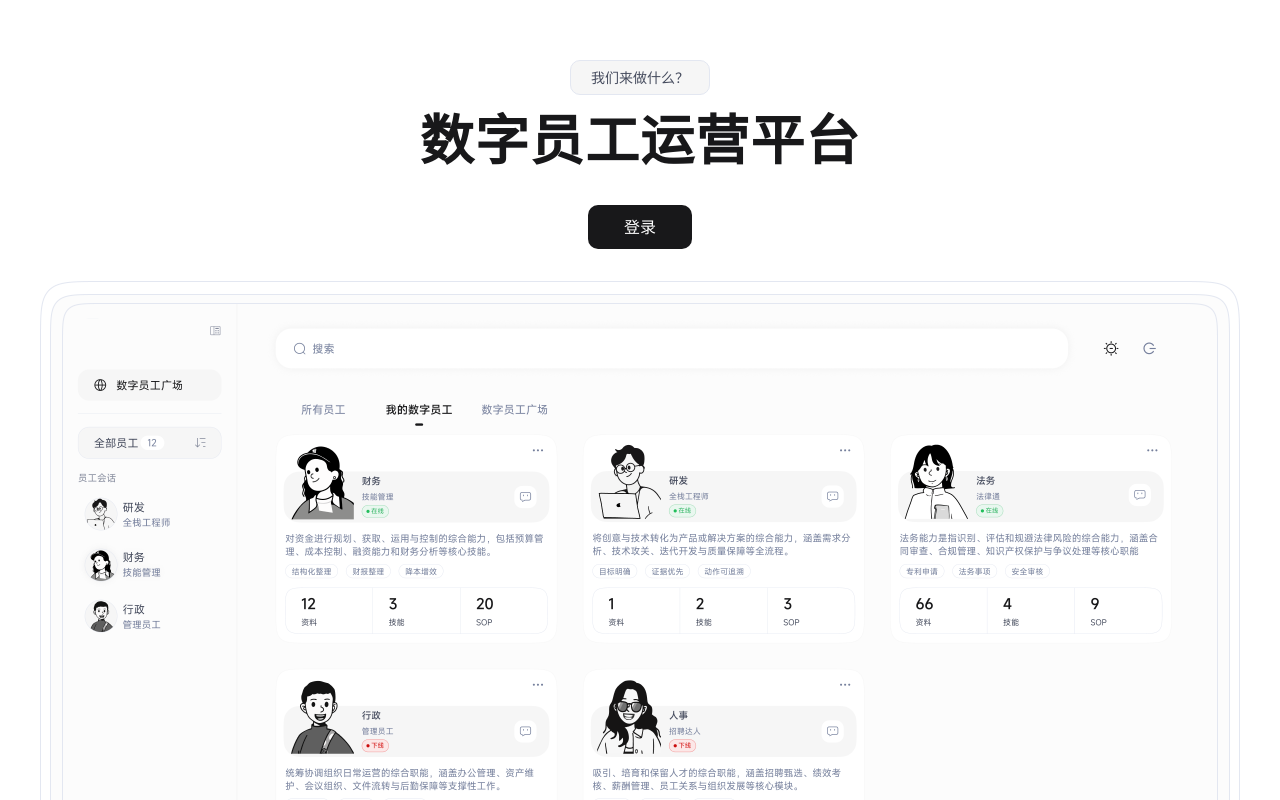
Test: LoginPage › shows the original landing hero before revealing credentials
The image size is (1280, 800).
Expected: the text "我们来做什么？" is shown, [570,60,710,95]
Expected: the field labelled "账号" is not shown
Click the button "登录".
click(640, 227)  # box [588,205,692,249]
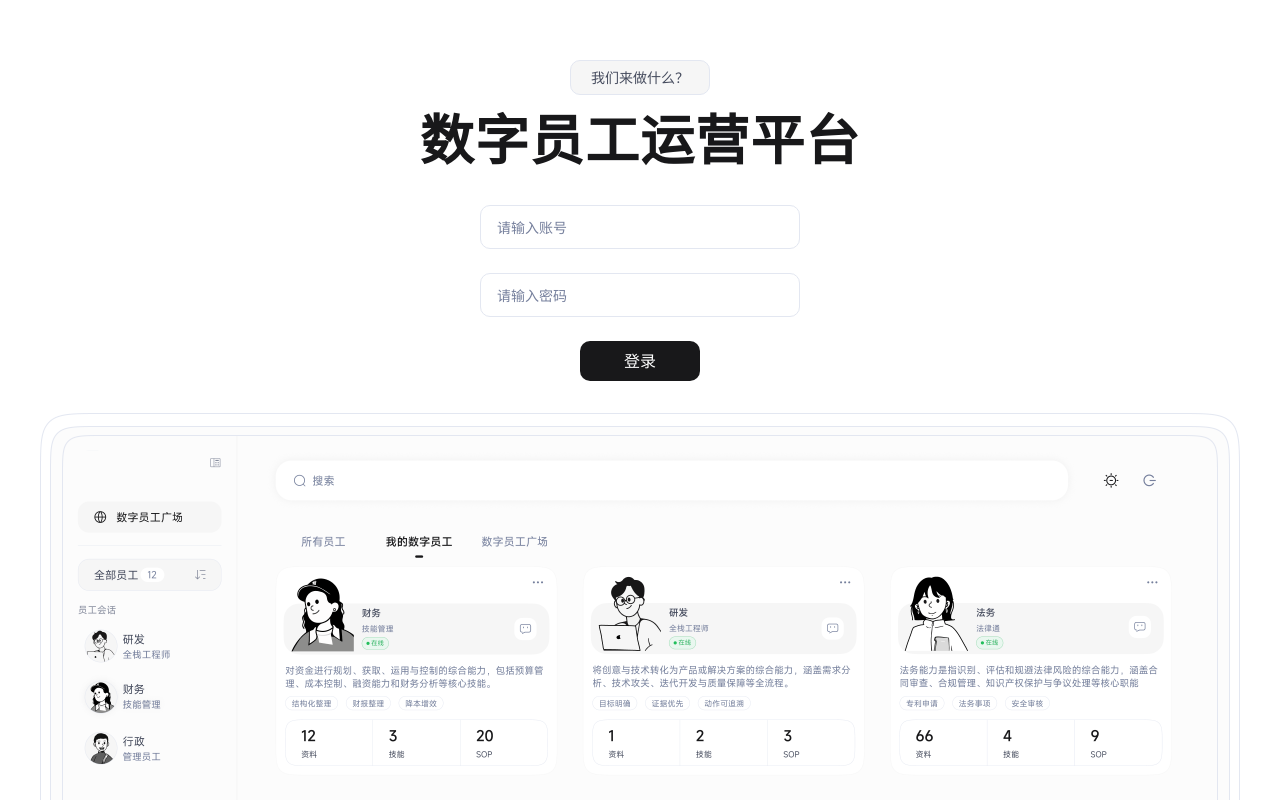
Result: the field labelled "账号" is shown at [497,216,783,238]
Result: the password field labelled "密码" is shown at [497,284,757,306]
